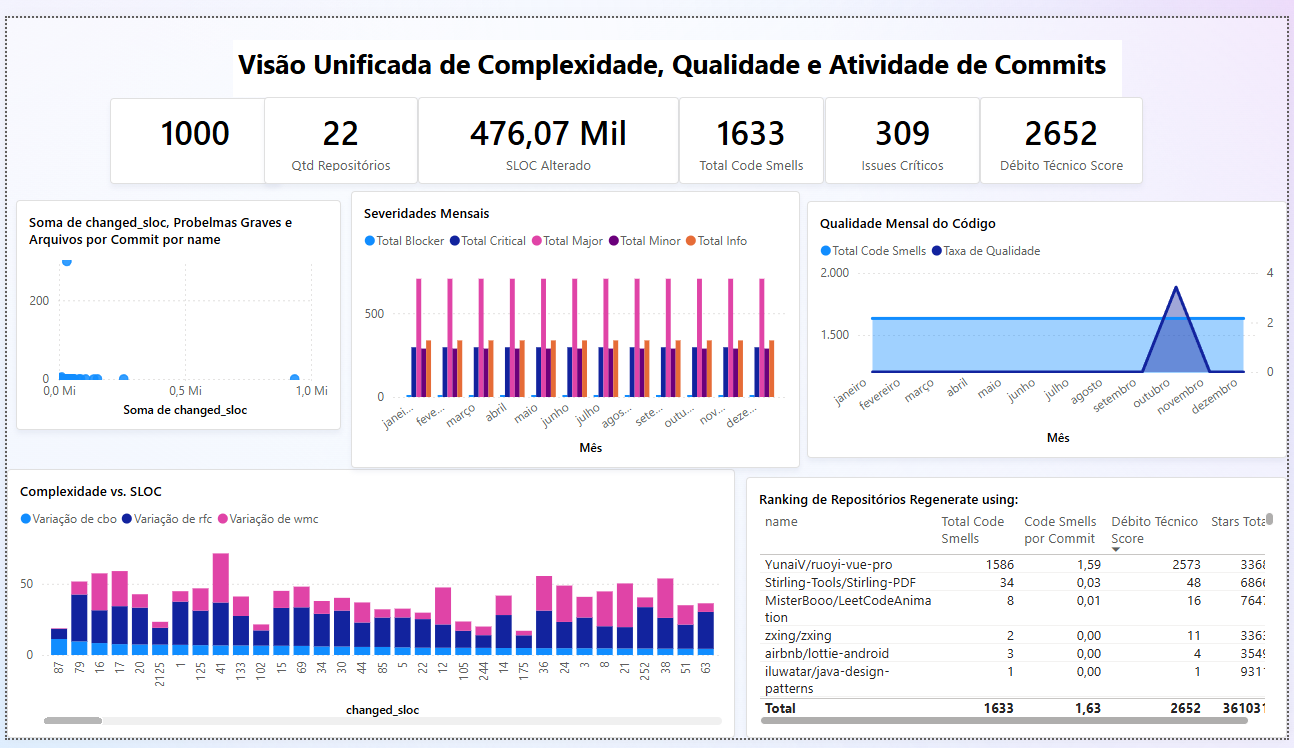

Layout of this report page (visuals, bound fields, positions):
{"tool":"powerbi","page":{"name":"Painel","canvas":[1280,720],"ordinal":0},"visuals":[{"type":"lineStackedColumnComboChart","title":"Complexidade vs. SLOC","fields":{"Category":["metrics.changed_sloc"],"Y":["Variance(metrics.cbo)","Variance(metrics.rfc)","Variance(metrics.wmc)"]},"box":[0,451,728.3,269.1],"z":0},{"type":"card","fields":{"Values":["Calendar.Qtd Commits"]},"box":[102.7,79.9,171.7,86.3],"z":1000},{"type":"card","fields":{"Values":["commits.Qtd Repositórios"]},"box":[257.1,79,153.5,87.2],"z":2000},{"type":"card","fields":{"Values":["commits.SLOC Alterado"]},"box":[410.6,79,261.6,87.2],"z":3000},{"type":"card","fields":{"Values":["commits.Total Code Smells"]},"box":[672.2,79,144.4,87.2],"z":4000},{"type":"card","fields":{"Values":["commits.Issues Críticos"]},"box":[817.6,79,155.3,87.2],"z":5000},{"type":"card","fields":{"Values":["commits.Débito Técnico Score"]},"box":[972.9,79,162.6,87.2],"z":6000},{"type":"clusteredColumnChart","title":"Severidades Mensais","fields":{"Category":["commits.created_at.Variation.Hierarquia de datas.Mês"],"Y":["commits.Total Blocker","commits.Total Critical","commits.Total Major","commits.Total Minor","commits.Total Info"]},"box":[344.3,172.6,448.8,277.1],"z":8000},{"type":"areaChart","title":"Qualidade Mensal do Código","fields":{"Category":["commits.created_at.Variation.Hierarquia de datas.Mês"],"Y":["commits.Total Code Smells"],"Y2":["commits.Taxa de Qualidade"]},"box":[800.3,182.6,479.7,257.1],"z":9000},{"type":"tableEx","title":"Ranking de Repositórios Regenerate using:","fields":{"Values":["commits_metrics repositories.name","commits.Total Code Smells","commits.Code Smells por Commit","commits.Débito Técnico Score","commits.Stars Total"]},"box":[738.6,459.3,541.8,260.7],"z":10000},{"type":"textbox","box":[225.7,22,889.5,57.1],"z":11000},{"type":"scatterChart","fields":{"X":["Sum(commits_metrics commits.changed_sloc)"],"Y":["commits.Probelmas Graves"],"Category":["commits_metrics repositories.name"]},"box":[8.7,182.1,325.6,229.6],"z":12000}]}

Visuals, with their boxes in screenshot pixels (x1, y1, x2, y2), scaled from the page's 1280x720 canvas onto the 1294x748 screenshot:
"Complexidade vs. SLOC" lineStackedColumnComboChart: <region>0, 469, 736, 747</region>
card - Calendar.Qtd Commits: <region>104, 83, 277, 173</region>
card - commits.Qtd Repositórios: <region>260, 82, 415, 173</region>
card - commits.SLOC Alterado: <region>415, 82, 680, 173</region>
card - commits.Total Code Smells: <region>680, 82, 826, 173</region>
card - commits.Issues Críticos: <region>827, 82, 984, 173</region>
card - commits.Débito Técnico Score: <region>984, 82, 1148, 173</region>
"Severidades Mensais" clusteredColumnChart: <region>348, 179, 802, 467</region>
"Qualidade Mensal do Código" areaChart: <region>809, 190, 1293, 457</region>
"Ranking de Repositórios Regenerate using:" tableEx: <region>747, 477, 1293, 747</region>
textbox: <region>228, 23, 1127, 82</region>
scatterChart - Sum(commits_metrics commits.changed_sloc) x commits.Probelmas Graves: <region>9, 189, 338, 428</region>
